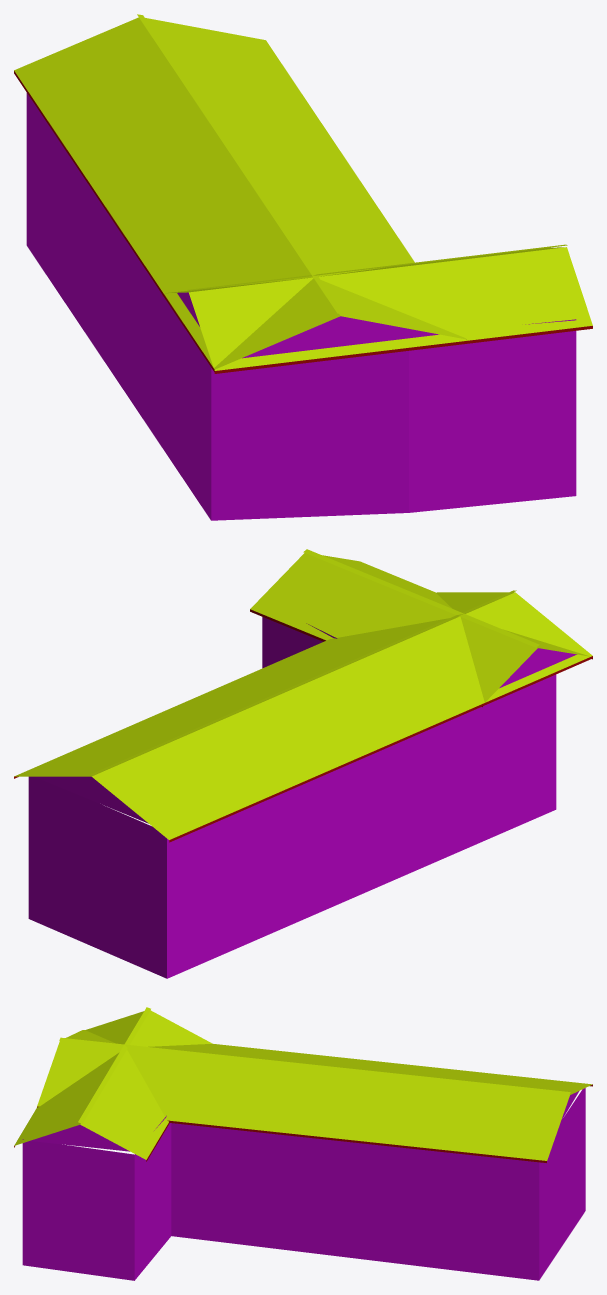
Rendered from bgj_163.glb.
The picture shows the model from 3 angles, top to bottom: view 1: azimuth 30°, elevation 25°; view 2: azimuth 150°, elevation 25°; view 3: azimuth 270°, elevation 25°; orthographic projection. The views are drawn at different scales.
Visible parts, largest first — view 1: bgj_163; view 2: bgj_163; view 3: bgj_163.
Part boxes in pixels (bbox=[...]): bgj_163: bbox=[14, 14, 592, 520]; bgj_163: bbox=[14, 549, 592, 978]; bgj_163: bbox=[14, 1007, 592, 1280].
Size of the model in its own units: 15.67 by 8.56 by 29.23.
